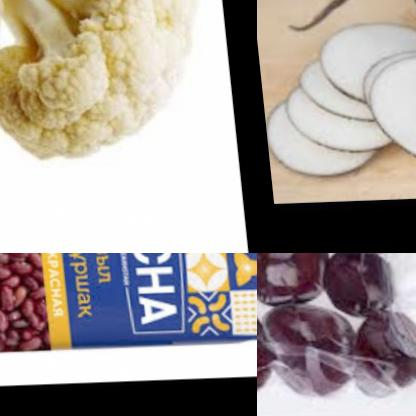beet: (257, 290, 360, 401), (344, 313, 416, 407), (316, 253, 400, 317), (257, 253, 335, 316)
cayliflower: (0, 0, 213, 168)
fasol: (0, 253, 57, 355)
redka: (257, 18, 416, 184), (283, 0, 416, 62), (354, 47, 416, 173)
